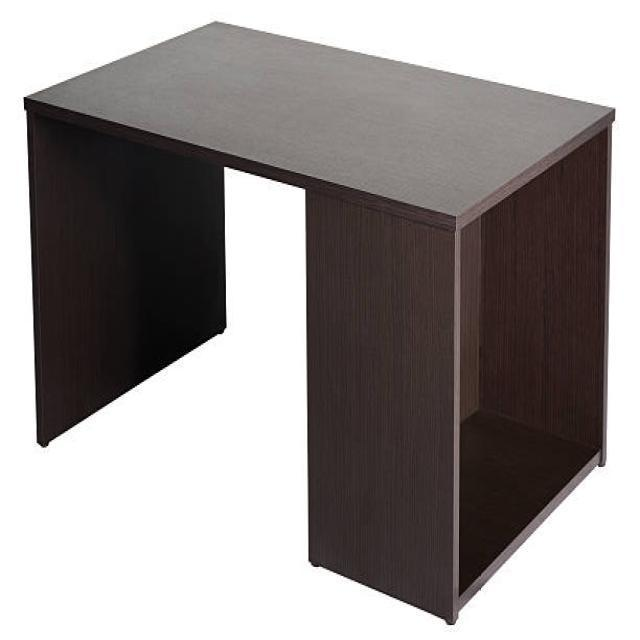table: (23, 18, 615, 625)
